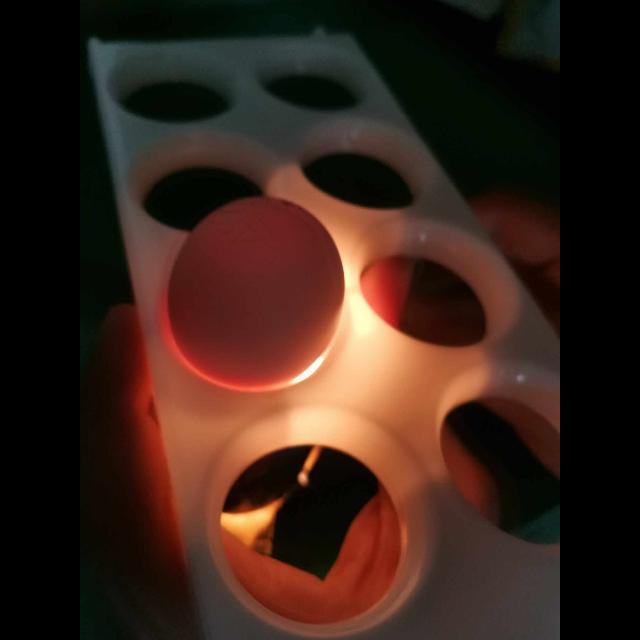Fertile: (164, 195, 348, 388)
